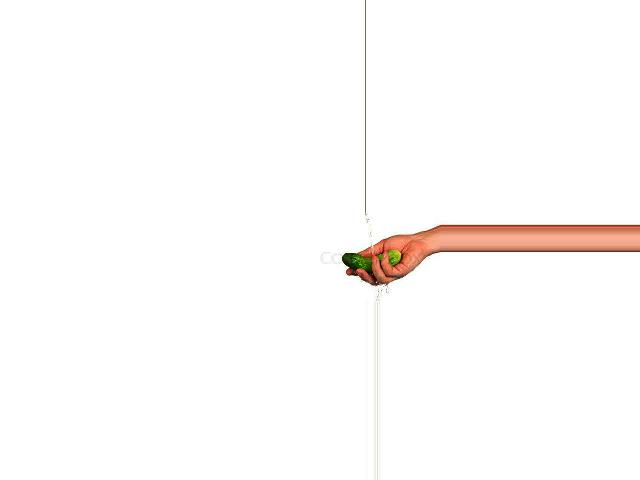cucumber: (342, 250, 401, 272)
